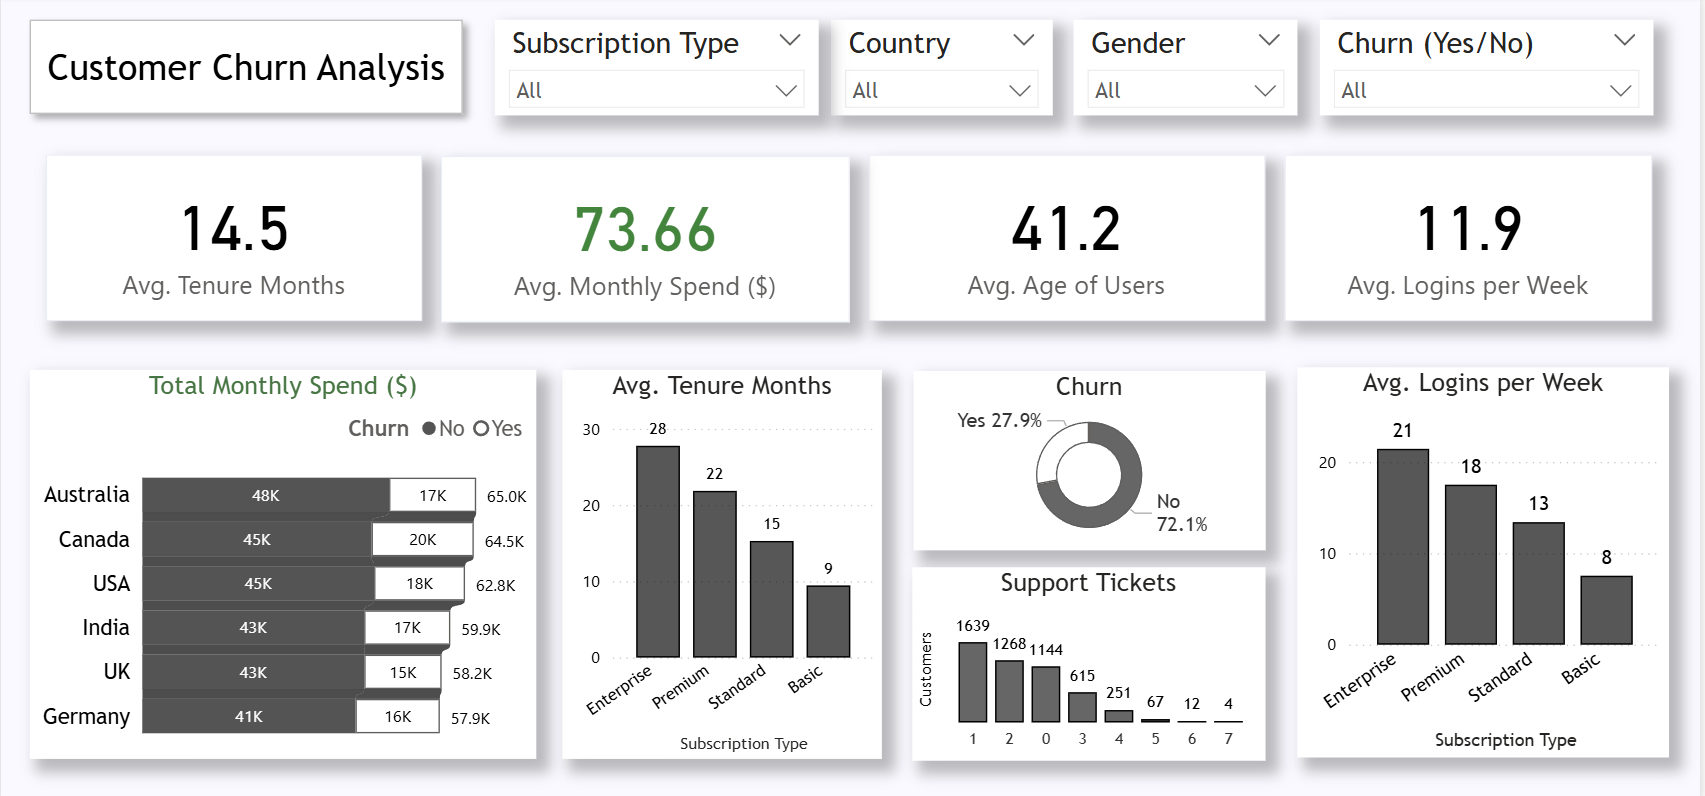

What the dashboard file says about the page in this screenshot:
{"tool":"powerbi","page":{"name":"Customer Churn Analysis Dashboard","canvas":[1250,595],"ordinal":0},"visuals":[{"type":"shape","box":[11.1,7,338.8,89.5],"z":0},{"type":"card","fields":{"Values":["Avg(SaaS_Customer_Churn_Dataset.TenureMonths)"]},"box":[32.9,117,277.1,122.6],"z":1000},{"type":"slicer","fields":{"Values":["SaaS_Customer_Churn_Dataset.Country"]},"box":[611.3,17.1,162.9,70.4],"z":2000},{"type":"slicer","fields":{"Values":["SaaS_Customer_Churn_Dataset.SubscriptionType"]},"box":[362.9,17.1,238.3,70.4],"z":3000},{"type":"slicer","fields":{"Values":["SaaS_Customer_Churn_Dataset.Gender"]},"box":[789.2,17.1,164.9,70.4],"z":4000},{"type":"card","fields":{"Values":["Avg(SaaS_Customer_Churn_Dataset.Age)"]},"box":[638.2,117,291.8,122.6],"z":5000},{"type":"card","fields":{"Values":["Avg(SaaS_Customer_Churn_Dataset.NumLoginsPerWeek)"]},"box":[945.1,116.6,270.2,122.6],"z":6000},{"type":"card","fields":{"Values":["Avg(SaaS_Customer_Churn_Dataset.MonthlySpend)"]},"box":[323.6,118.1,300.9,122.6],"z":7000},{"type":"slicer","fields":{"Values":["SaaS_Customer_Churn_Dataset.Churn"]},"box":[970.2,17.1,245.3,70.4],"z":8000},{"type":"columnChart","title":"Avg. Tenure Months","fields":{"Y":["Avg(SaaS_Customer_Churn_Dataset.TenureMonths)"],"Category":["SaaS_Customer_Churn_Dataset.SubscriptionType"]},"box":[413.2,275.5,235.3,286.5],"z":9000},{"type":"barChart","title":"Total Monthly Spend ($)","fields":{"Category":["SaaS_Customer_Churn_Dataset.Country"],"Y":["Sum(SaaS_Customer_Churn_Dataset.MonthlySpend)"],"Series":["SaaS_Customer_Churn_Dataset.Churn"]},"box":[21.1,275.5,373,286.5],"z":10000},{"type":"donutChart","title":"Churn","fields":{"Category":["SaaS_Customer_Churn_Dataset.Churn"],"Y":["CountNonNull(SaaS_Customer_Churn_Dataset.CustomerID)"]},"box":[671.1,275.9,258.9,131.7],"z":11000},{"type":"columnChart","title":"Support Tickets","fields":{"Category":["SaaS_Customer_Churn_Dataset.SupportTickets"],"Y":["CountNonNull(SaaS_Customer_Churn_Dataset.CustomerID)"]},"box":[670.7,420.1,259.7,142.4],"z":12000},{"type":"columnChart","title":"Avg. Logins per Week","fields":{"Category":["SaaS_Customer_Churn_Dataset.SubscriptionType"],"Y":["Avg(SaaS_Customer_Churn_Dataset.NumLoginsPerWeek)"]},"box":[953.9,273.7,273.7,287.3],"z":13000}]}

Visuals, with their boxes in screenshot pixels (x1, y1, x2, y2), scaled from the page's 1250x595 canvas onto the 1705x796 screenshot:
shape: BBox(15, 9, 477, 129)
card - Avg(SaaS_Customer_Churn_Dataset.TenureMonths): BBox(45, 157, 423, 321)
slicer - SaaS_Customer_Churn_Dataset.Country: BBox(834, 23, 1056, 117)
slicer - SaaS_Customer_Churn_Dataset.SubscriptionType: BBox(495, 23, 820, 117)
slicer - SaaS_Customer_Churn_Dataset.Gender: BBox(1076, 23, 1301, 117)
card - Avg(SaaS_Customer_Churn_Dataset.Age): BBox(871, 157, 1269, 321)
card - Avg(SaaS_Customer_Churn_Dataset.NumLoginsPerWeek): BBox(1289, 156, 1658, 320)
card - Avg(SaaS_Customer_Churn_Dataset.MonthlySpend): BBox(441, 158, 852, 322)
slicer - SaaS_Customer_Churn_Dataset.Churn: BBox(1323, 23, 1658, 117)
"Avg. Tenure Months" columnChart: BBox(564, 369, 885, 752)
"Total Monthly Spend ($)" barChart: BBox(29, 369, 538, 752)
"Churn" donutChart: BBox(915, 369, 1269, 545)
"Support Tickets" columnChart: BBox(915, 562, 1269, 753)
"Avg. Logins per Week" columnChart: BBox(1301, 366, 1674, 751)
